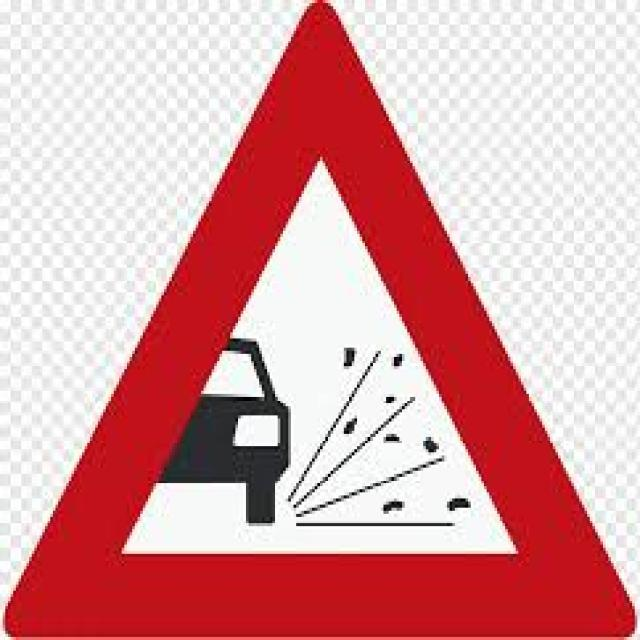loose gravel: (13, 16, 619, 618)
